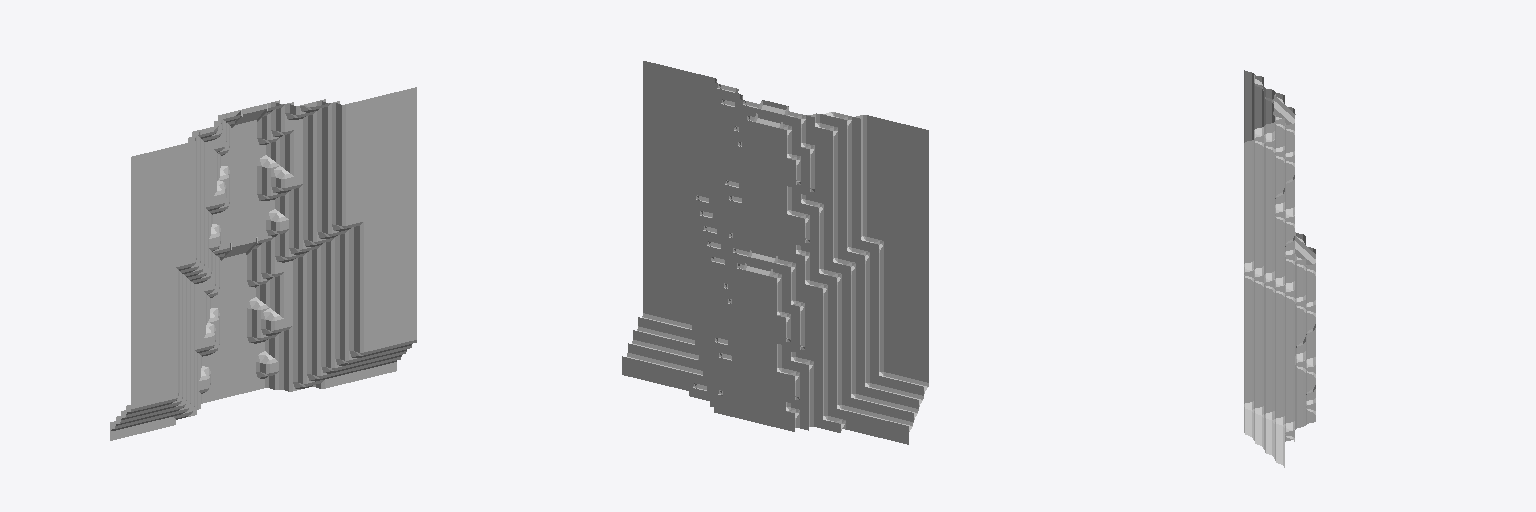
Rendered from Victory-Road-4_00_05.obj.
The picture shows the model from 3 angles: view 1: azimuth 30°, elevation 25°; view 2: azimuth 150°, elevation 25°; view 3: azimuth 270°, elevation 25°; orthographic projection.
Visible parts, largest first — view 1: map; view 2: map; view 3: map.
Part boxes in pixels (left/top/right/bottom): map: left=110, top=87, right=416, bottom=440; map: left=622, top=61, right=928, bottom=444; map: left=1244, top=70, right=1315, bottom=467.
Size of the model in its own units: 32 by 32.5 by 7.01.